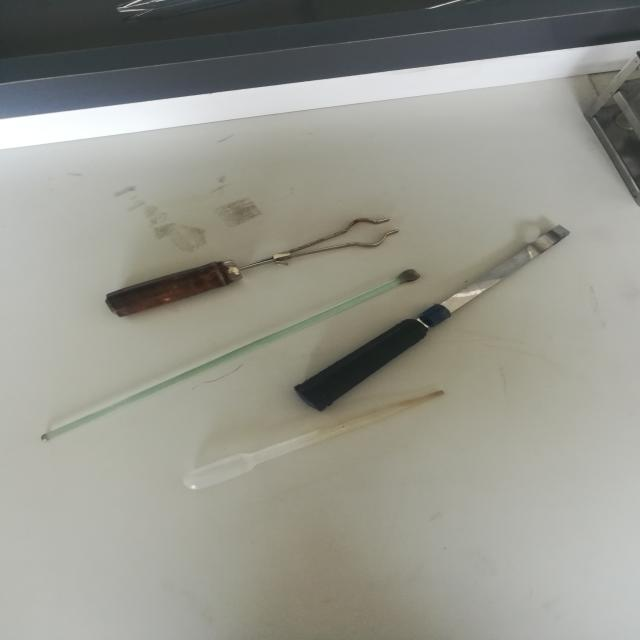Glass_Rod: (27, 256, 435, 457)
Pipette: (168, 384, 454, 503)
TestTube_Holder: (271, 215, 586, 426), (92, 194, 419, 335)
